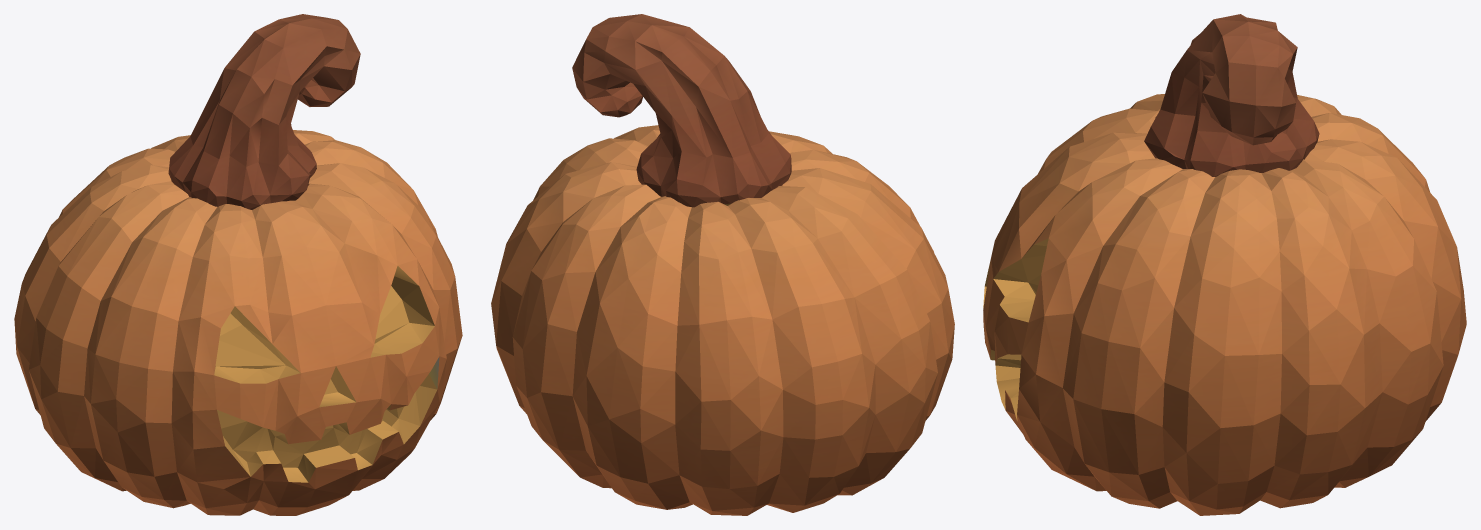
Rendered from EVHalloween_Decor_JackOLanternGrin_Lit2.fbx.
3 views of the same model, side by side, from view 1: azimuth 30°, elevation 25°; view 2: azimuth 150°, elevation 25°; view 3: azimuth 270°, elevation 25° (orthographic). The views are drawn at different scales.
Parts seen in each view (by area): view 1: EVHalloween_Decor_PumpkinOrange; view 2: EVHalloween_Decor_PumpkinOrange; view 3: EVHalloween_Decor_PumpkinOrange.
Part boxes in pixels (<box>): EVHalloween_Decor_PumpkinOrange: <box>14,14,462,515</box>; EVHalloween_Decor_PumpkinOrange: <box>491,14,954,515</box>; EVHalloween_Decor_PumpkinOrange: <box>983,14,1466,515</box>.
Bounding box in the file's own units: 33.2 × 34.04 × 31.41.
